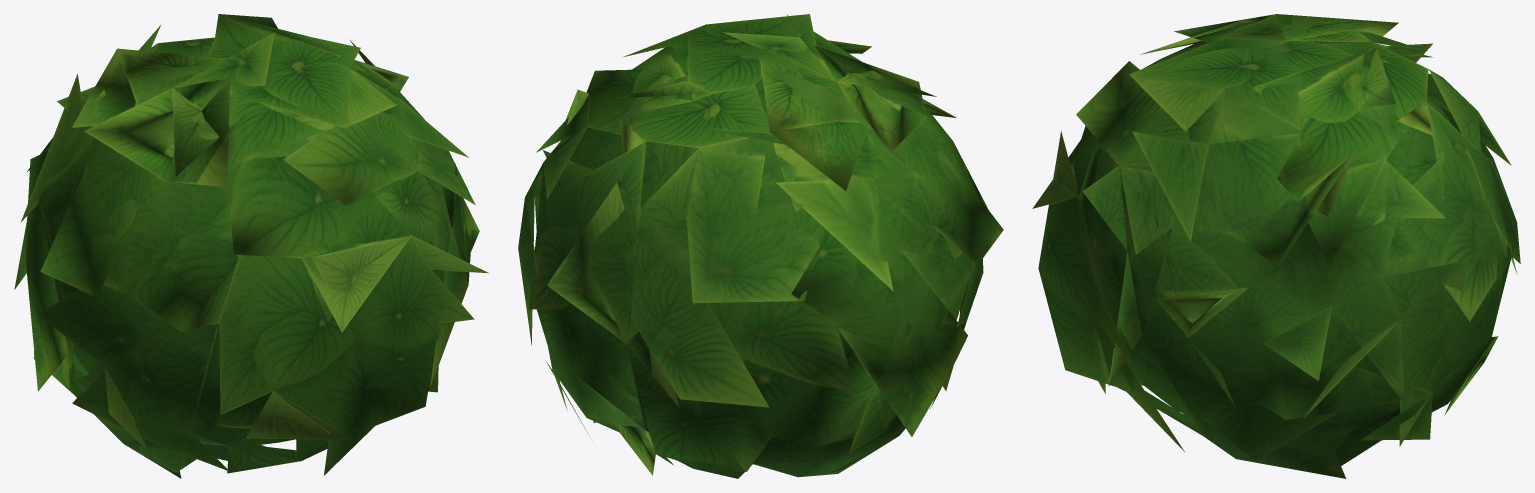
File: bush.glb
3 renders of one model, left to right at view 1: azimuth 30°, elevation 25°; view 2: azimuth 150°, elevation 25°; view 3: azimuth 270°, elevation 25°, orthographic. The views are drawn at different scales.
Bounding box in the file's own units: 0.9053 × 0.8862 × 0.9316.
1 material, 1 textured.
